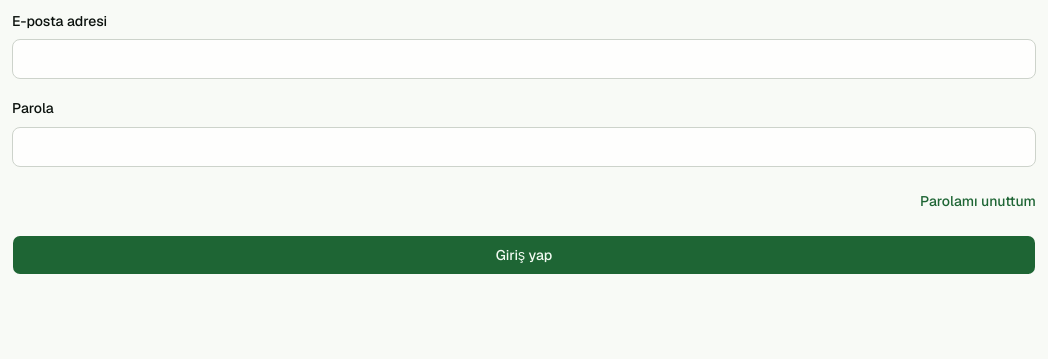
Test: LoginForm › hatalı kimlik bilgisinde sunucunun genel mesajını gösterir, alan işaretlemez
In the field labelled "E-posta adresi": (524, 59) [12,39,1036,79], type "alici@ornek.test"
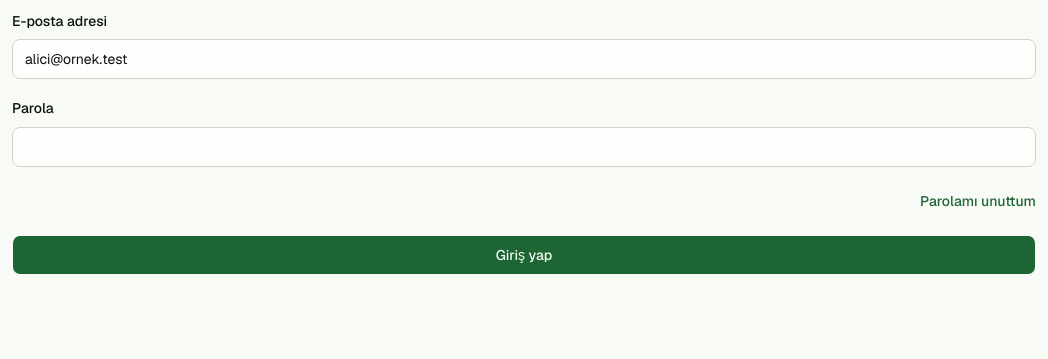
In the password field labelled "Parola": (524, 146) [12,126,1036,166], type "cok-gizli-parola"
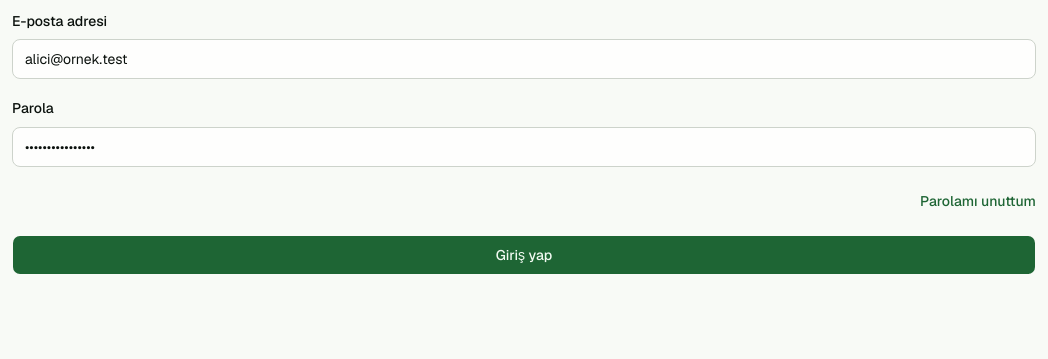
Click the button "Giriş yap": (524, 254) [12,234,1036,274]
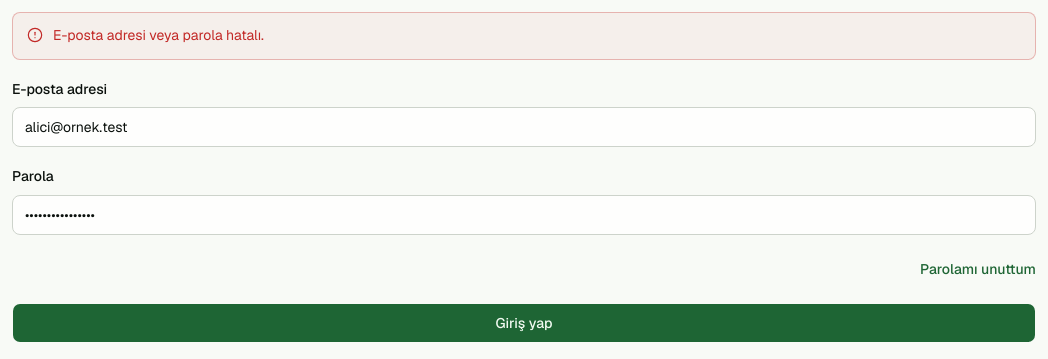
Now the message reads "E-posta adresi veya parola hatalı.", box [53,26,264,44]
